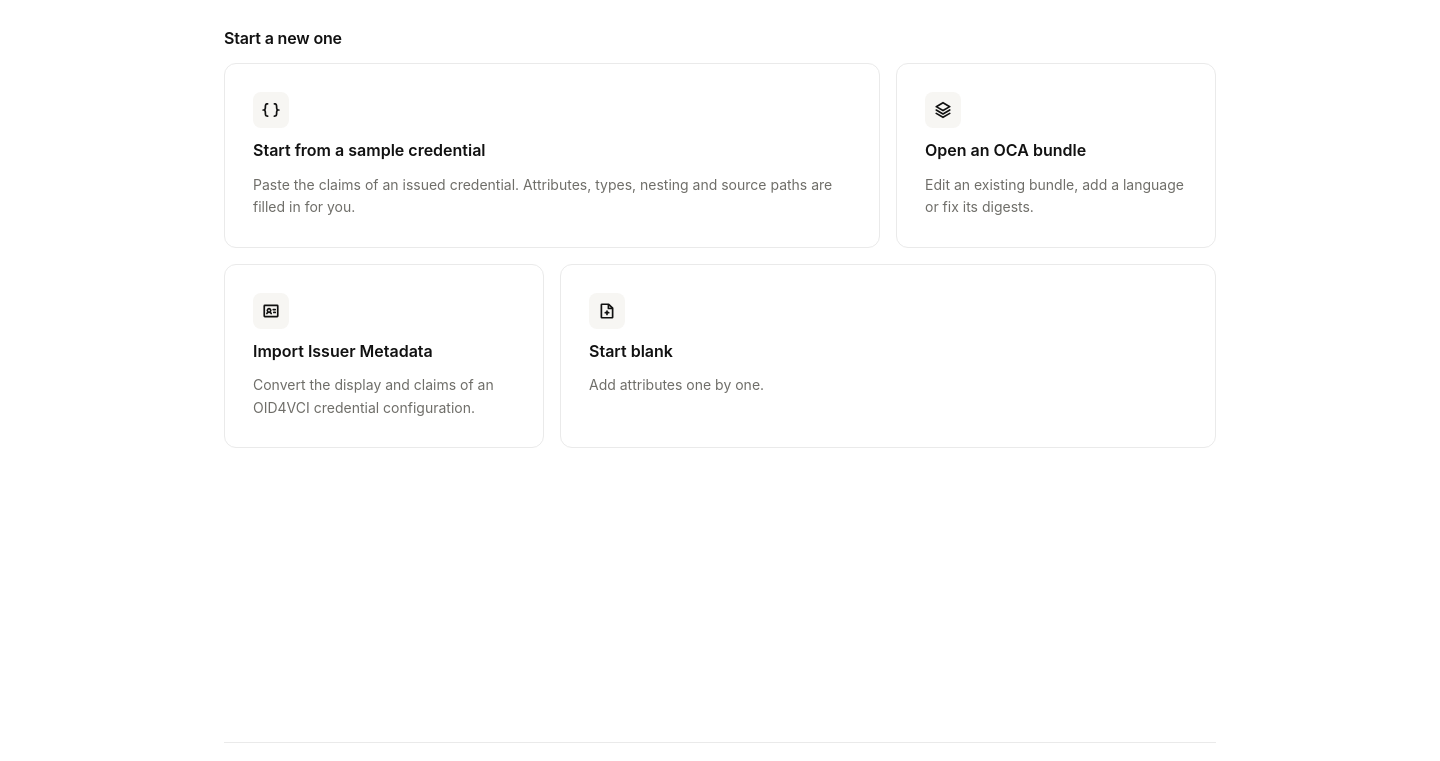
Test: App › keeps the start screen footer out of the workspace
(page scrolled)
Click the button "Start blank Add attributes one by one.": (607, 311) [560,264,1216,448]
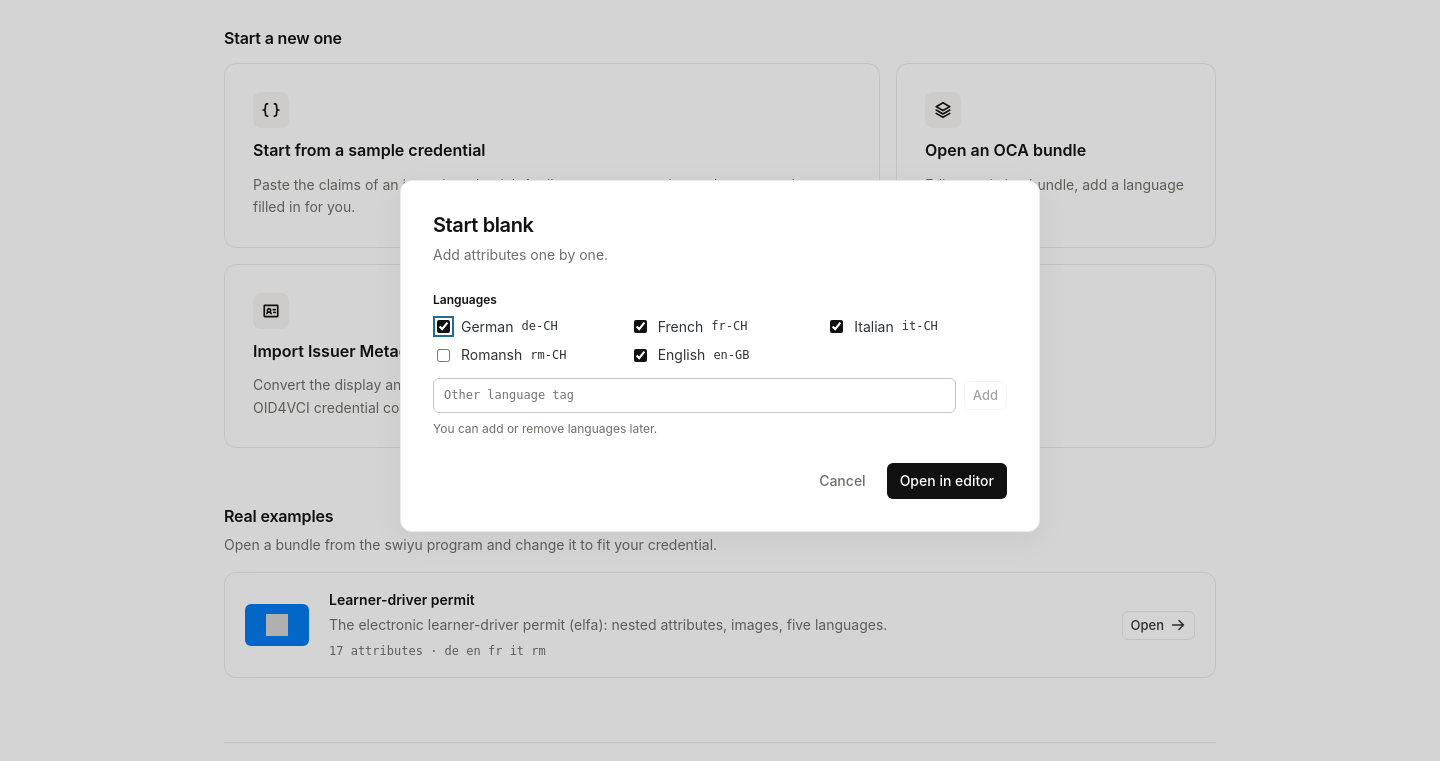
Click the button "Open in editor": (947, 481) [887,463,1007,499]
(page scrolled)
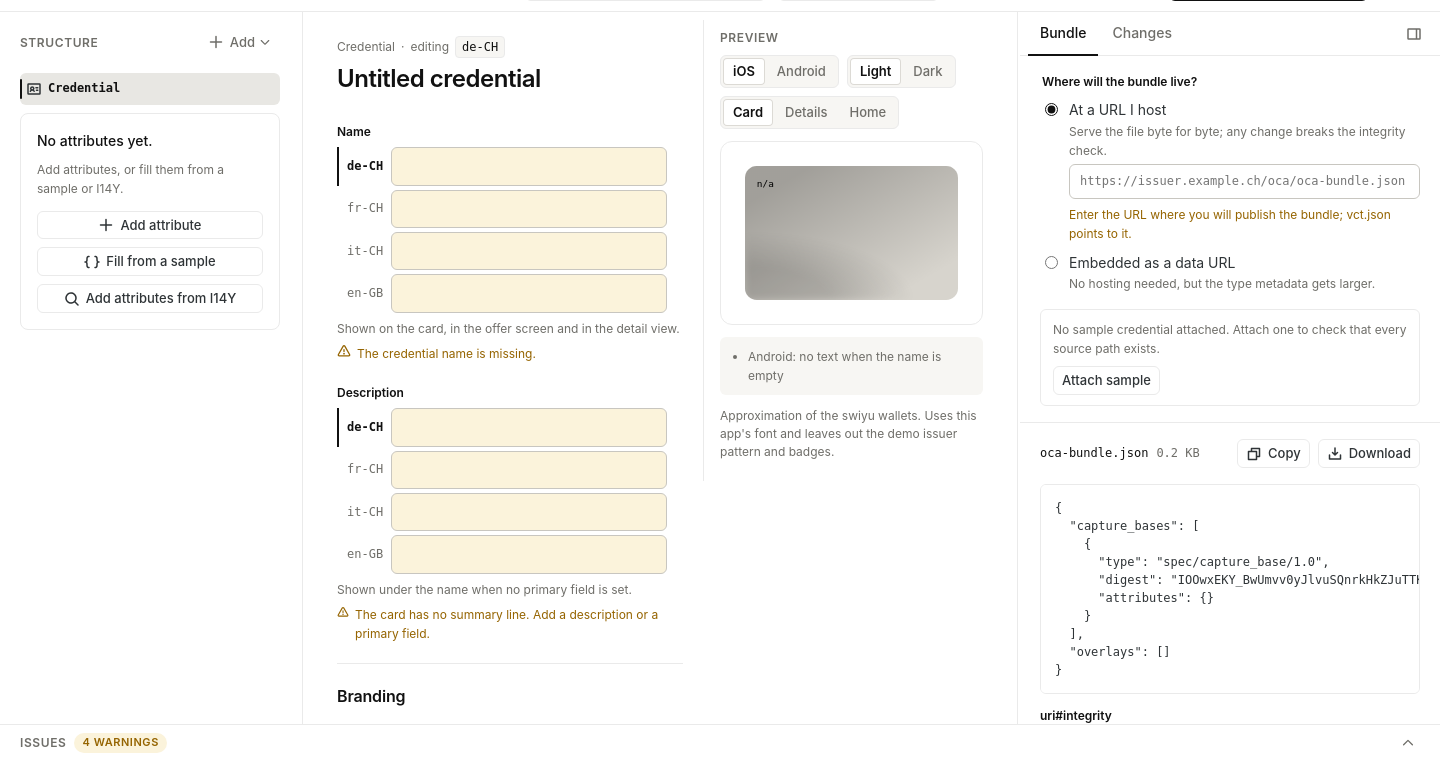
expect the heading "Untitled credential" is shown: met, box [337,64,541,94]
